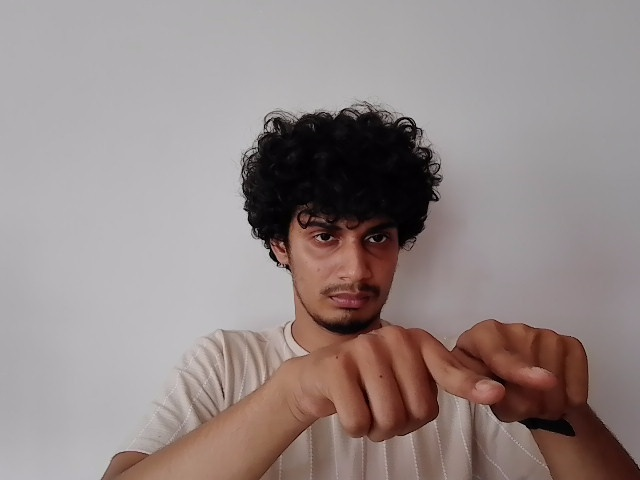same: (307, 317, 592, 440)
